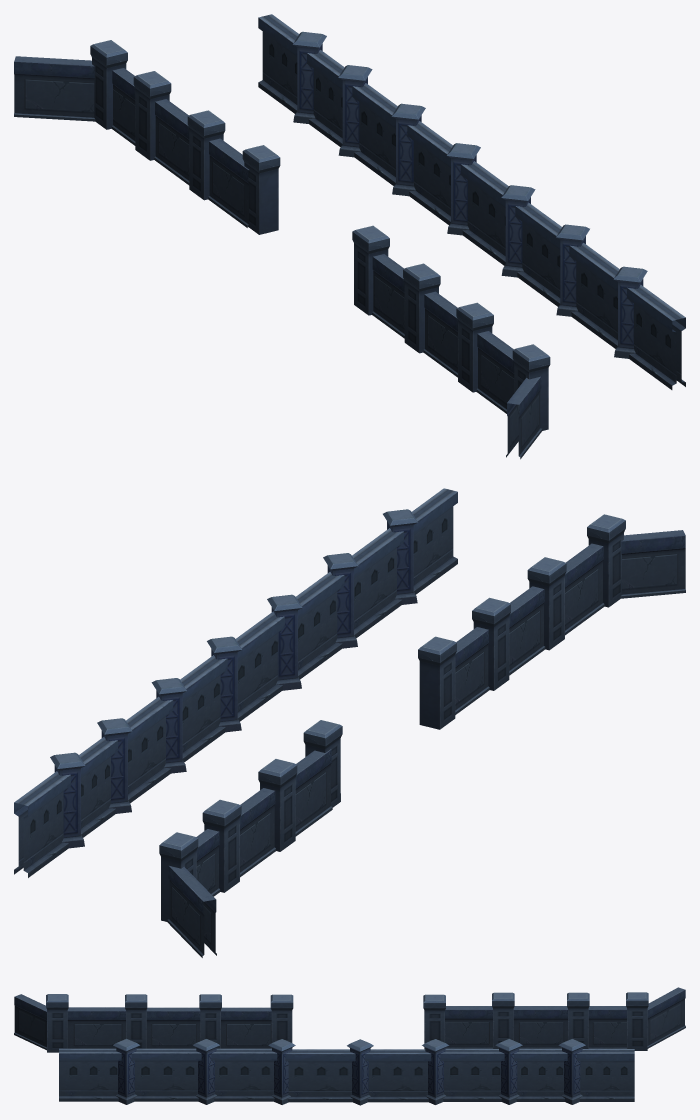
File: Area_11_4.fbx
3 views of the same model, one above another, from view 1: azimuth 30°, elevation 25°; view 2: azimuth 150°, elevation 25°; view 3: azimuth 270°, elevation 25° (orthographic). The views are drawn at different scales.
Visible parts, largest first — view 1: Area_11_4; view 2: Area_11_4; view 3: Area_11_4.
Part boxes in pixels (<box>): Area_11_4: <box>14,14,685,459</box>; Area_11_4: <box>14,488,685,957</box>; Area_11_4: <box>14,987,685,1105</box>.
Bounding box in the file's own units: 2135 × 700 × 7498.
